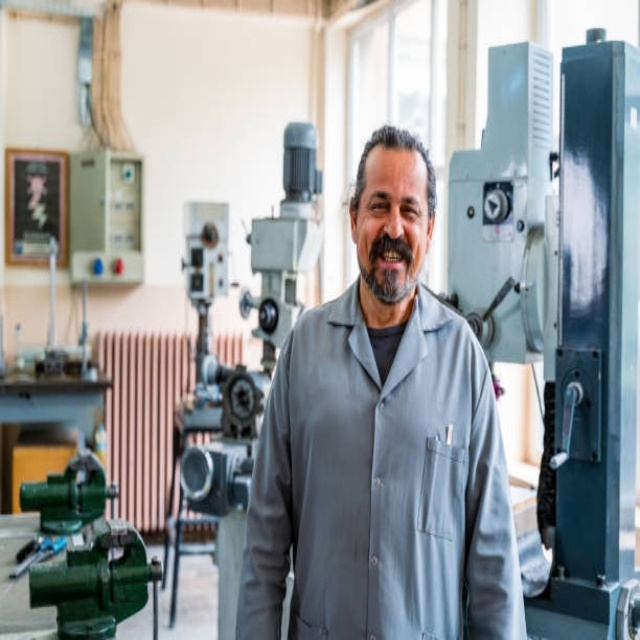Sin_gafas: (364, 182, 422, 223)
Sin_mascara: (369, 237, 411, 281)
